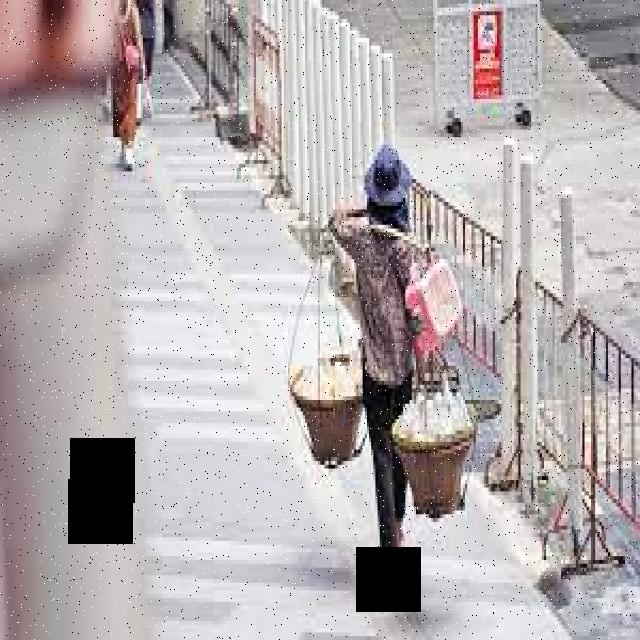food-booth: (290, 145, 471, 598)
